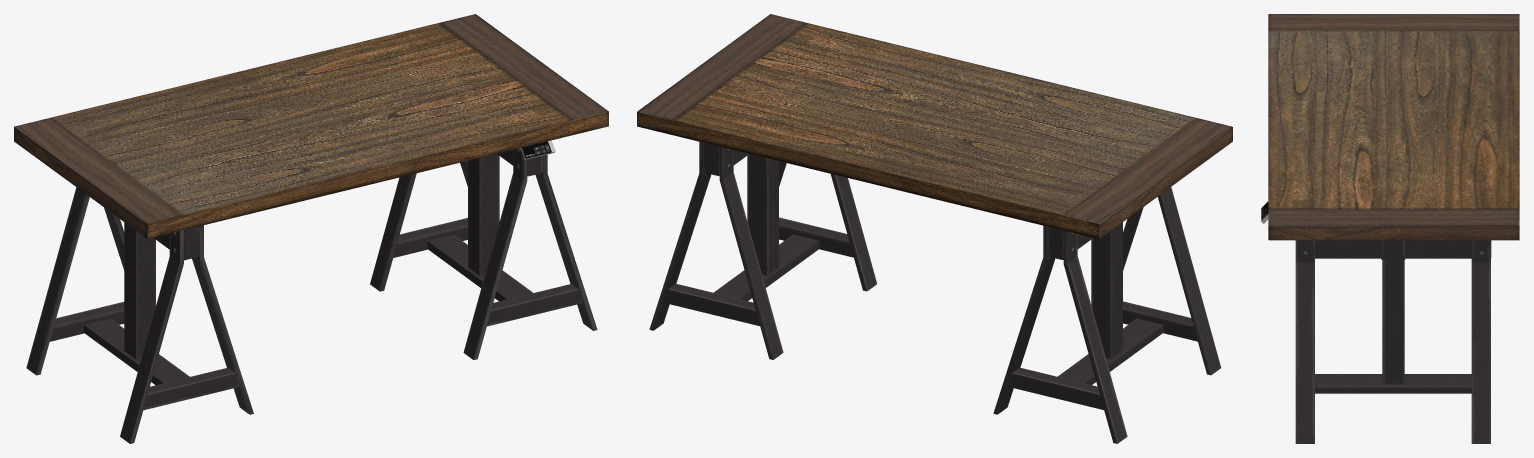
The model's file is industrial_metal_computer_desk.glb.
3 renders of one model, left to right at view 1: azimuth 30°, elevation 25°; view 2: azimuth 150°, elevation 25°; view 3: azimuth 270°, elevation 25°, orthographic. The views are drawn at different scales.
Visible parts, largest first — view 1: RootNode; view 2: RootNode; view 3: RootNode.
Boxes of the visible parts, box(x1,y1,x2,y2) form: RootNode: box(14, 14, 608, 443); RootNode: box(637, 14, 1232, 443); RootNode: box(1261, 14, 1519, 443).
Size of the model in its own units: 1.54 by 0.7252 by 0.7836.
1 material, 1 textured.
